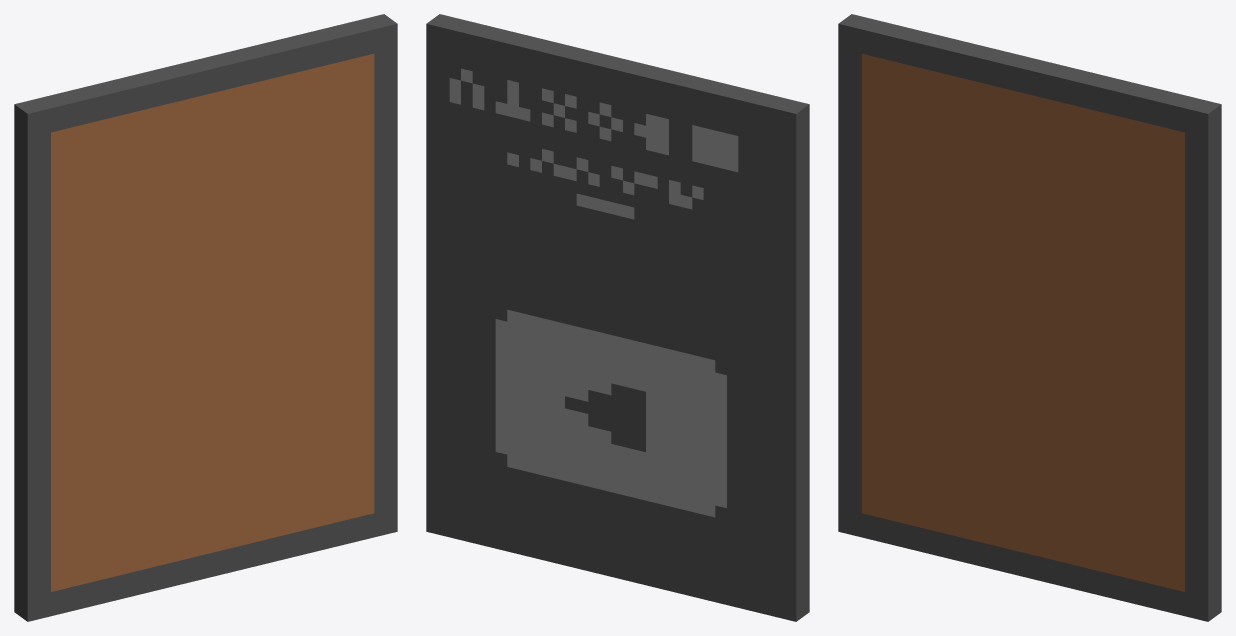
Rendered from YoutubeFrame.obj.
The picture shows the model from 3 angles, left to right: view 1: azimuth 30°, elevation 25°; view 2: azimuth 150°, elevation 25°; view 3: azimuth 330°, elevation 25°; orthographic projection.
Visible parts, largest first — view 1: Untitled.055; view 2: Untitled.055; view 3: Untitled.055.
Boxes of the visible parts, x1,y1,x2,y2 form: Untitled.055: [14, 14, 397, 621]; Untitled.055: [426, 14, 809, 621]; Untitled.055: [838, 14, 1221, 621].
Bounding box in the file's own units: 3.2 × 4.2 × 0.2.
